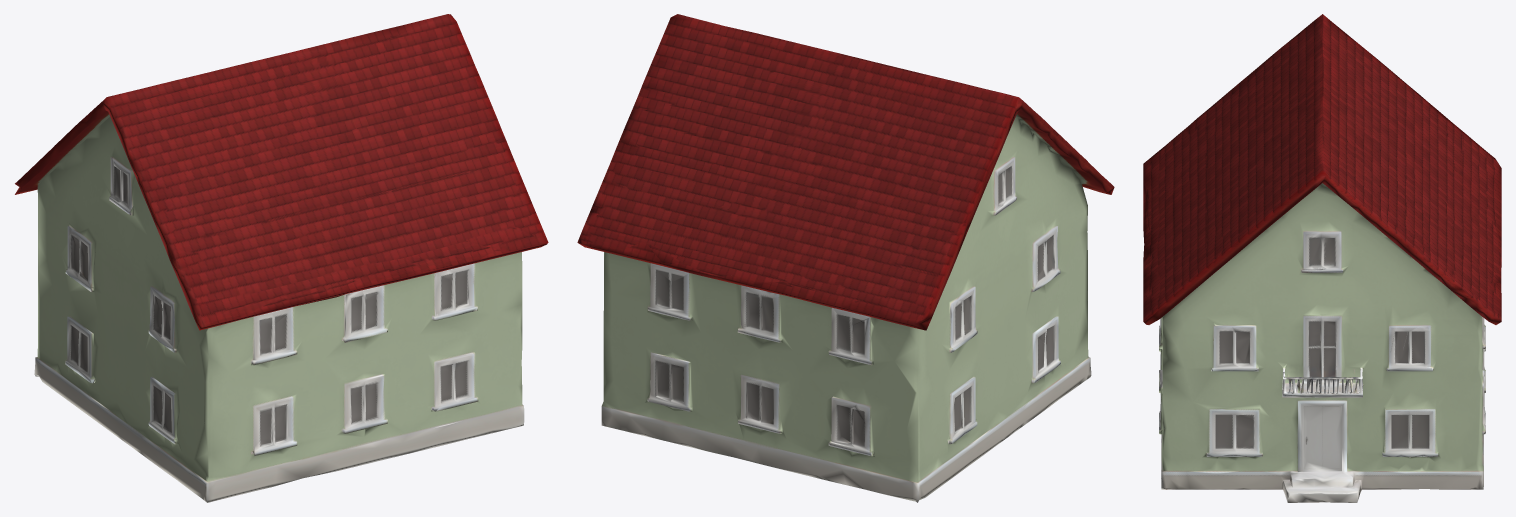
Rendered from plain_house_green_tripo.glb.
3 views of the same model, side by side, from view 1: azimuth 30°, elevation 25°; view 2: azimuth 150°, elevation 25°; view 3: azimuth 270°, elevation 25° (orthographic). The views are drawn at different scales.
Parts seen in each view (by area): view 1: tripo_node_2316df93-e154-4cf4-af7c-0d45cd53c551; view 2: tripo_node_2316df93-e154-4cf4-af7c-0d45cd53c551; view 3: tripo_node_2316df93-e154-4cf4-af7c-0d45cd53c551.
Boxes of the visible parts, x1,y1,x2,y2 form: tripo_node_2316df93-e154-4cf4-af7c-0d45cd53c551: (15,14,548,502); tripo_node_2316df93-e154-4cf4-af7c-0d45cd53c551: (577,14,1114,502); tripo_node_2316df93-e154-4cf4-af7c-0d45cd53c551: (1143,14,1501,502).
Size of the model in its own units: 0.98 by 0.8988 by 0.9001.
1 material, 1 textured.
